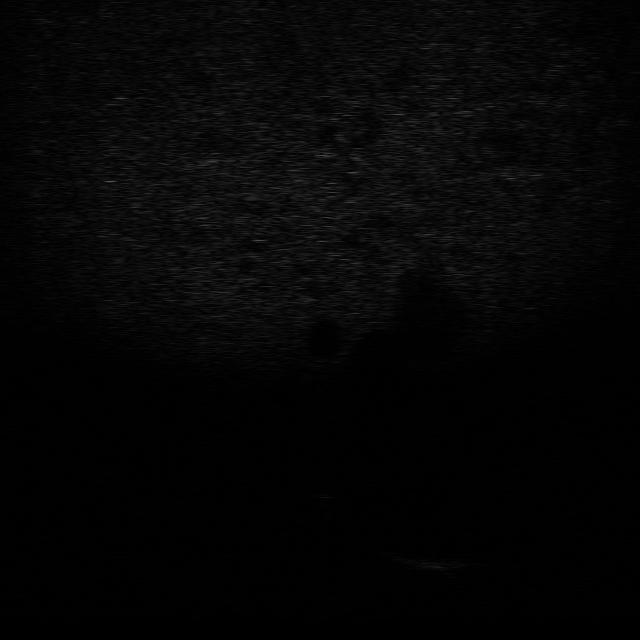ball: (302, 474, 350, 501)
metal bucket: (384, 542, 471, 574)
